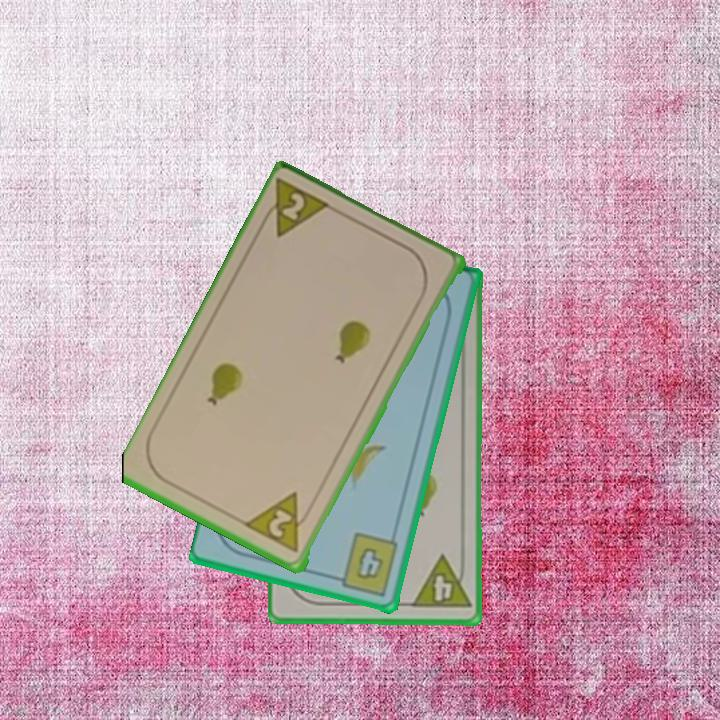2p: (255, 176, 336, 242), (243, 489, 316, 557)
4b: (329, 529, 402, 599)
4p: (408, 552, 474, 612)
